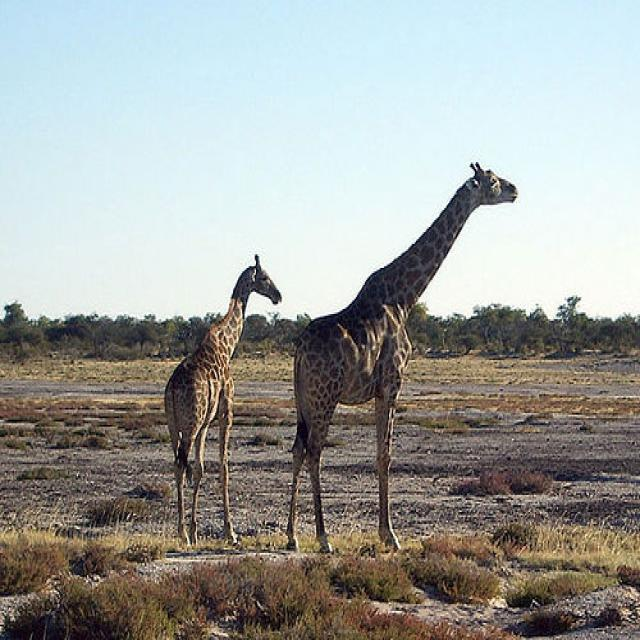giraffe: (281, 168, 517, 574), (163, 255, 284, 554)
